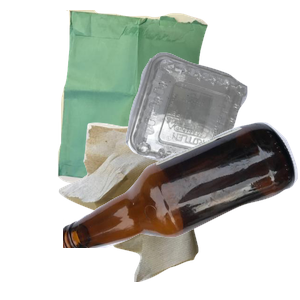glass: (63, 120, 300, 300)
paper: (55, 10, 255, 190)
plastic: (123, 50, 300, 214)
trash: (56, 120, 247, 300)
